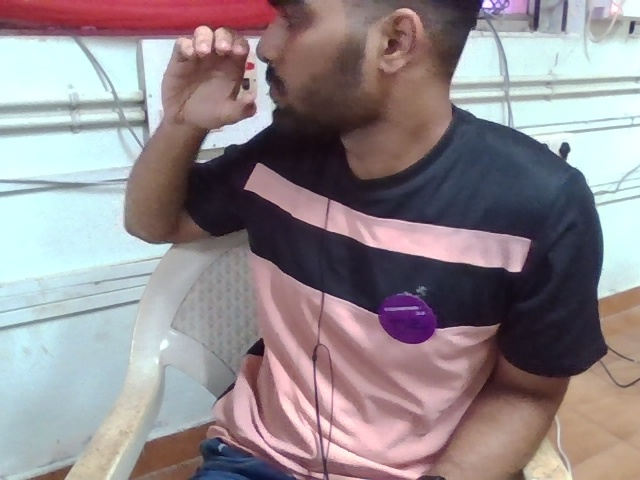Drink: (148, 20, 268, 137)
